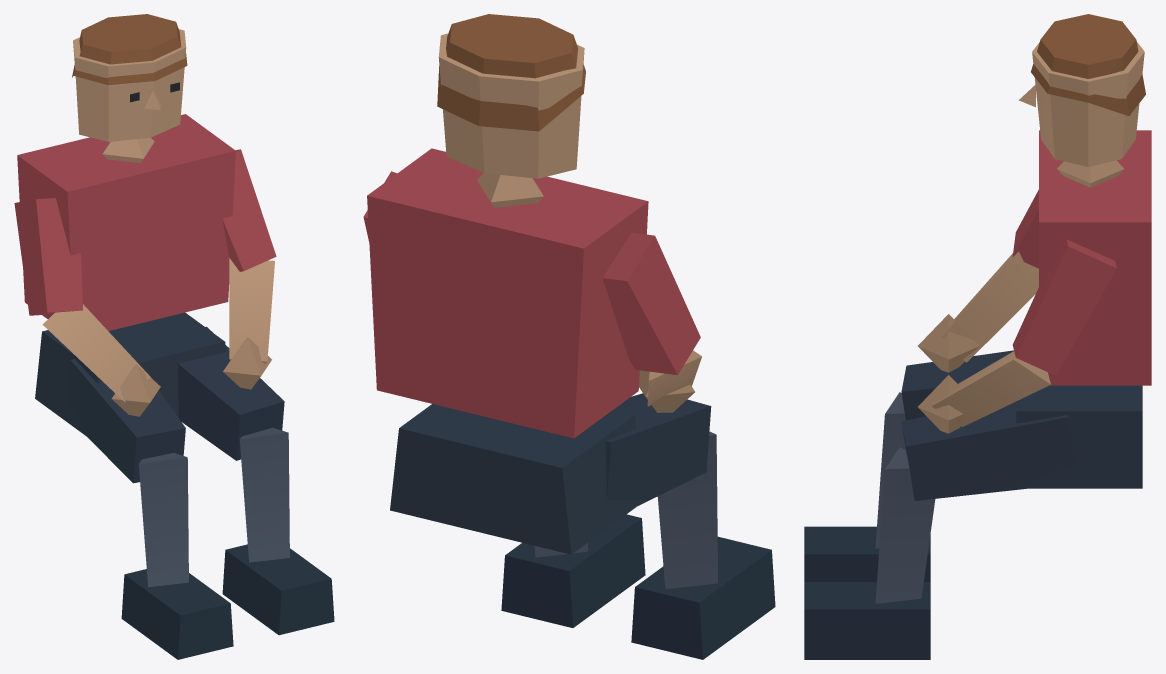
File: fan-11.glb
The picture shows the model from 3 angles, left to right: view 1: azimuth 30°, elevation 25°; view 2: azimuth 150°, elevation 25°; view 3: azimuth 270°, elevation 25°; orthographic projection. The views are drawn at different scales.
Visible parts, largest first — view 1: fan-11; view 2: fan-11; view 3: fan-11.
Part boxes in pixels (x1,y1,x2,y2): fan-11: [14, 14, 334, 659]; fan-11: [363, 14, 775, 659]; fan-11: [804, 14, 1151, 659].
Size of the model in its own units: 0.6669 by 1.41 by 0.77.
